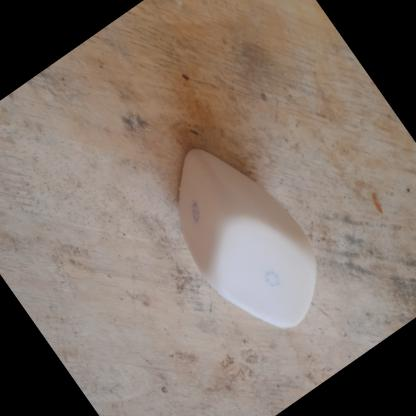Cube: (134, 118, 350, 360)
